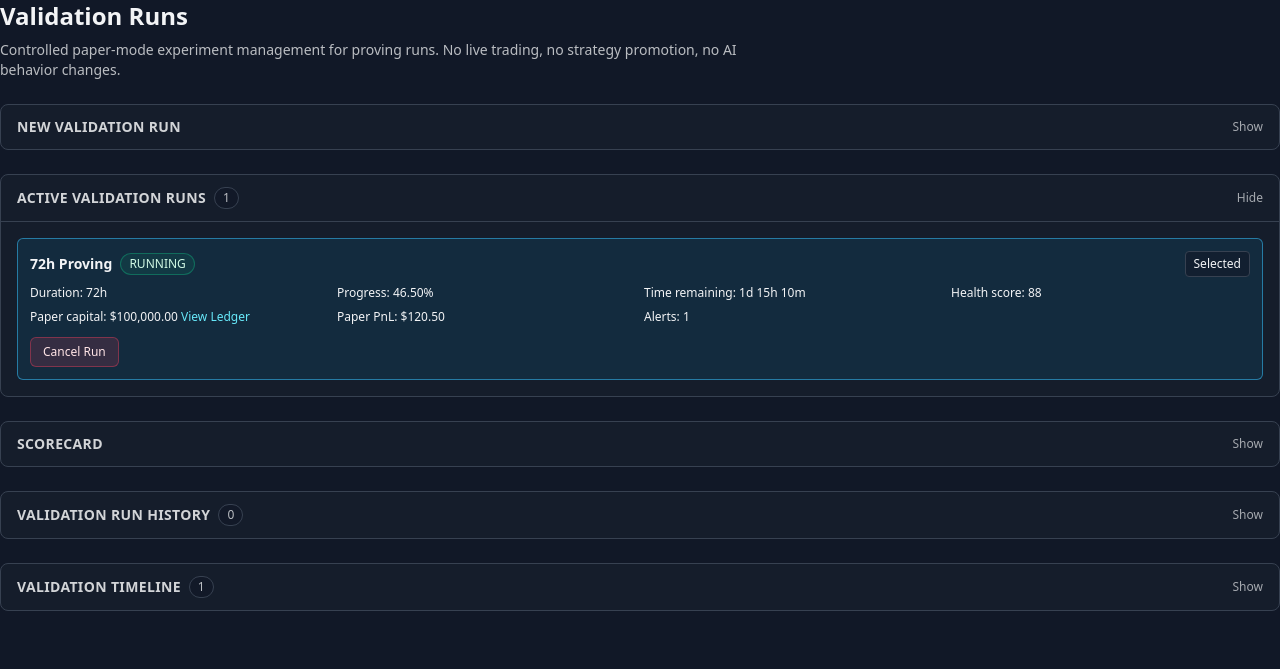
it: ValidationRunsPage › keeps the existing selection when a second validation run is started
Expected: the heading "Validation Runs" is shown, x1=0 y1=0 x2=188 y2=32
Expected: the button "Selected" is shown, x1=1184 y1=251 x2=1250 y2=277
Click the button "New Validation Run Show".
click(99, 126)  # box x1=1 y1=105 x2=1279 y2=149
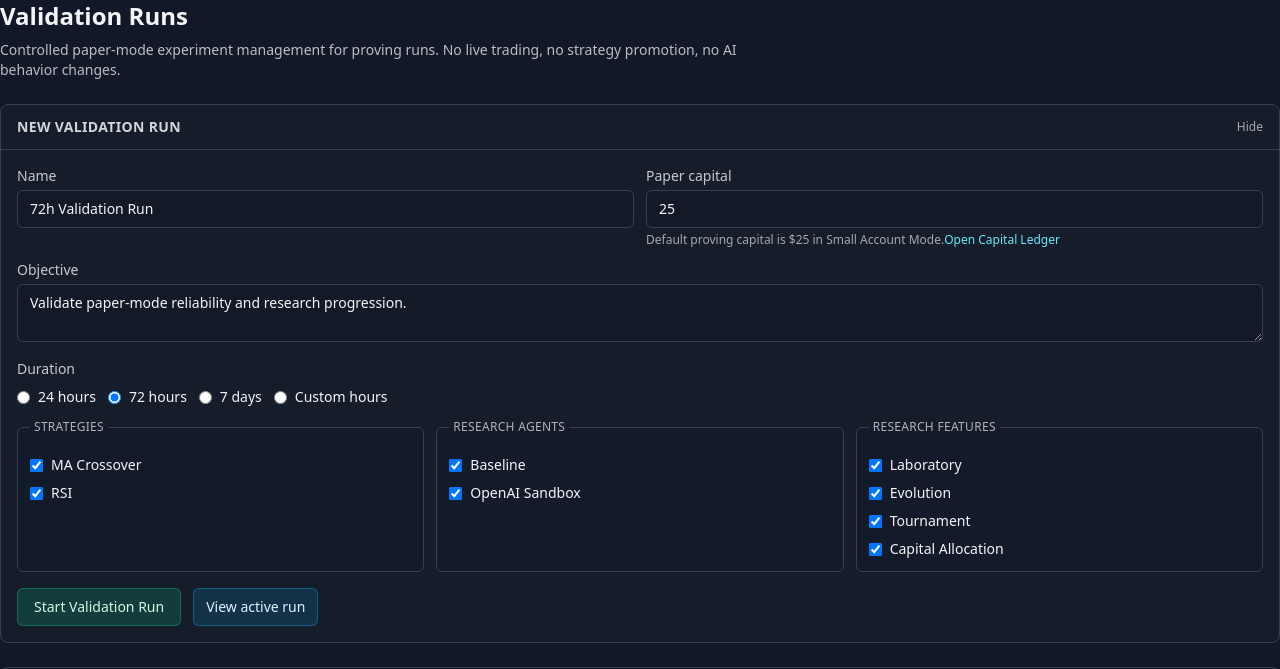
Click the button "Start Validation Run".
click(99, 607)  # box x1=17 y1=588 x2=181 y2=626
(page scrolled)
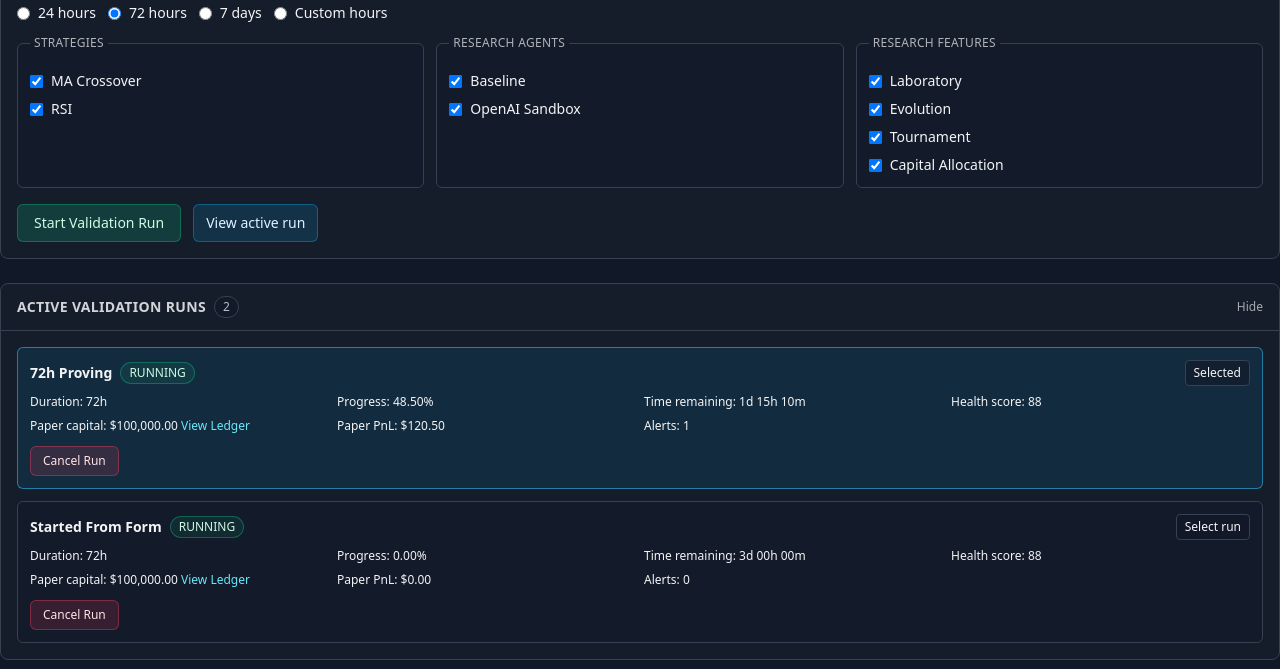
Expected: the button "Selected" is shown, x1=1184 y1=360 x2=1250 y2=386
Now the text "Started From Form" is shown, box x1=30 y1=517 x2=162 y2=537
